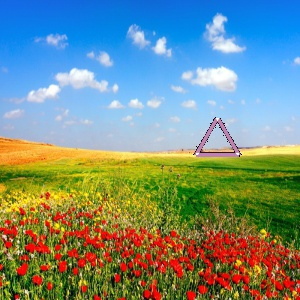triangle: (190, 114, 245, 160)
